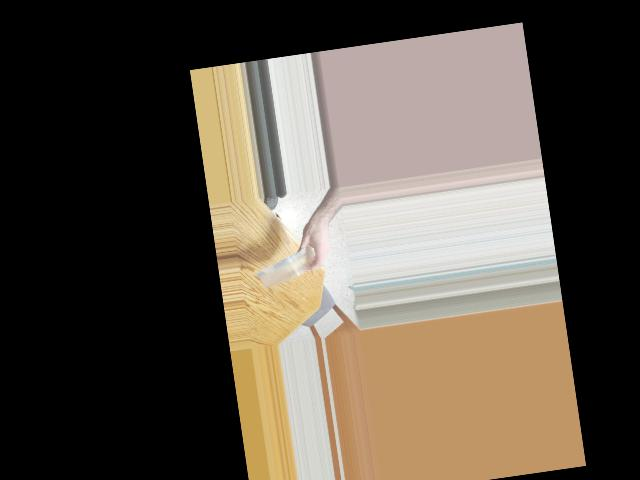cheese: (253, 251, 324, 285)
